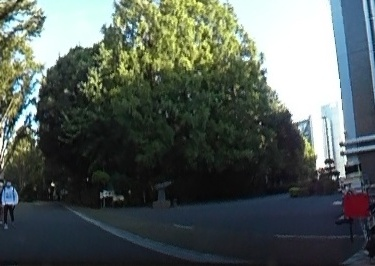person: (3, 179, 17, 225)
